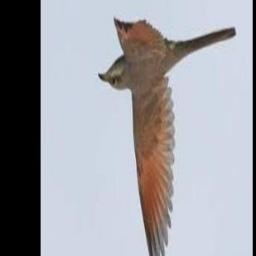Cuckoo: (98, 20, 235, 256)
